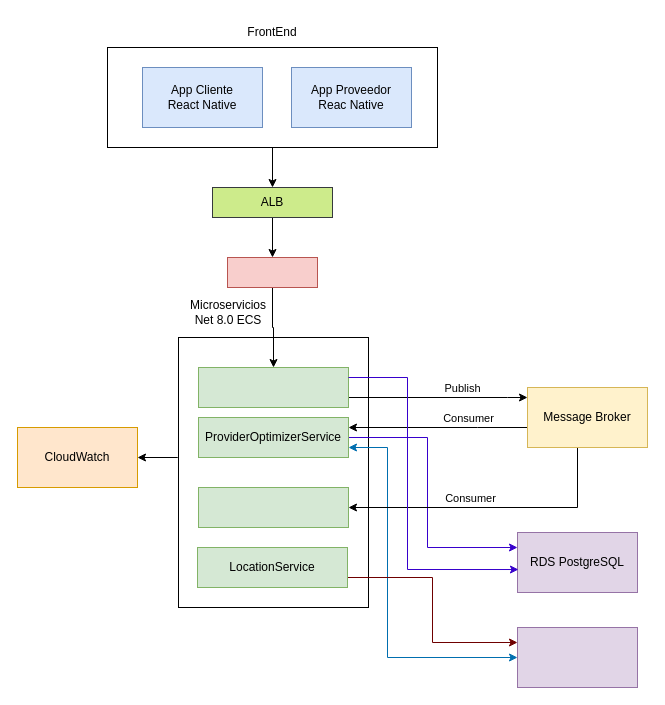
The diagram is 665 pixels wide and 705 high, and some of its shapes have lost their labels. The centre of each missing label's shape, as x and y in pixels:
"APIGateway" goes at point (272, 272).
"AssistanceRequestService" goes at point (273, 387).
"NotificationsService" goes at point (273, 507).
"Redis Cache" goes at point (577, 657).
